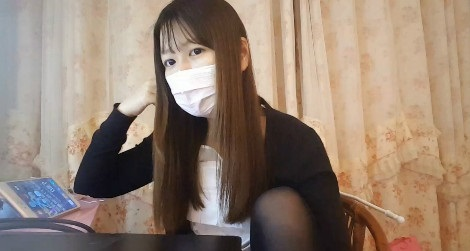face_mask: (160, 19, 237, 117)
